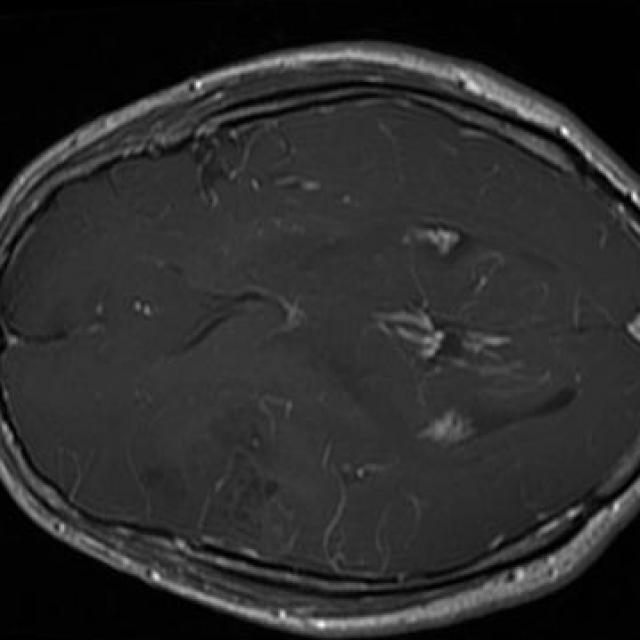glioma: (200, 453, 299, 554)
